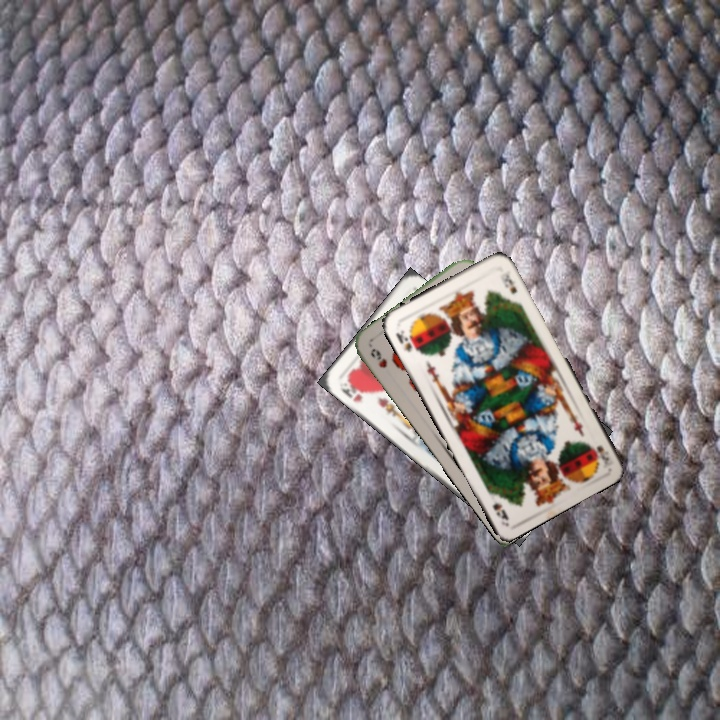H9: (366, 344, 390, 370)
HK: (335, 376, 365, 405)
SK: (392, 326, 420, 355), (592, 441, 612, 466)
